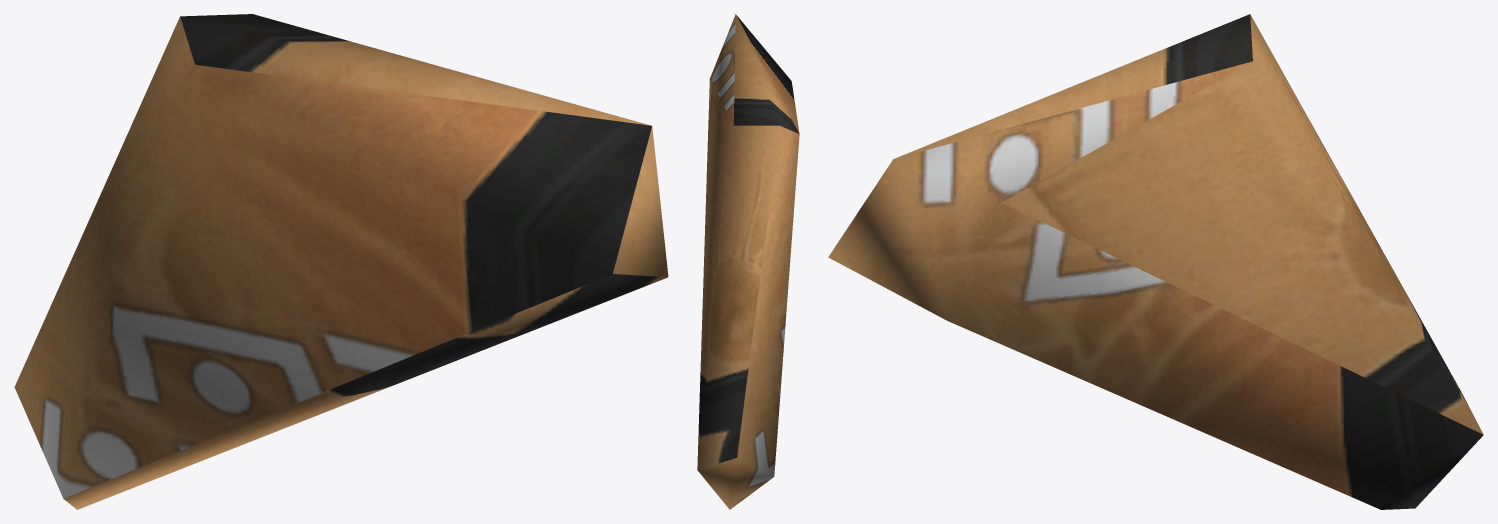
The model's file is dest_nt_nuked_female_02_arm_right_LOD3.obj.
3 renders of one model, left to right at view 1: azimuth 30°, elevation 25°; view 2: azimuth 150°, elevation 25°; view 3: azimuth 270°, elevation 25°, orthographic. The views are drawn at different scales.
Parts seen in each view (by area): view 1: mtl_nt_2020_manne_fem01_dress1; view 2: mtl_nt_2020_manne_fem01_dress1; view 3: mtl_nt_2020_manne_fem01_dress1.
Boxes of the visible parts, left/top/right/bottom form: mtl_nt_2020_manne_fem01_dress1: left=14, top=14, right=668, bottom=509; mtl_nt_2020_manne_fem01_dress1: left=697, top=14, right=799, bottom=509; mtl_nt_2020_manne_fem01_dress1: left=828, top=14, right=1483, bottom=509.
Bounding box in the file's own units: 23.29 × 38.14 × 45.41.
